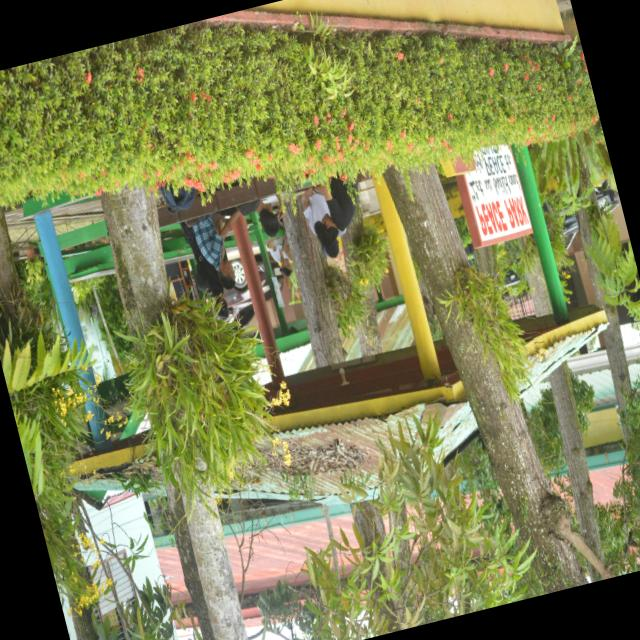person: (181, 221, 229, 318), (193, 209, 240, 288), (307, 176, 358, 246), (237, 198, 281, 236), (300, 193, 328, 233), (267, 237, 292, 275)
